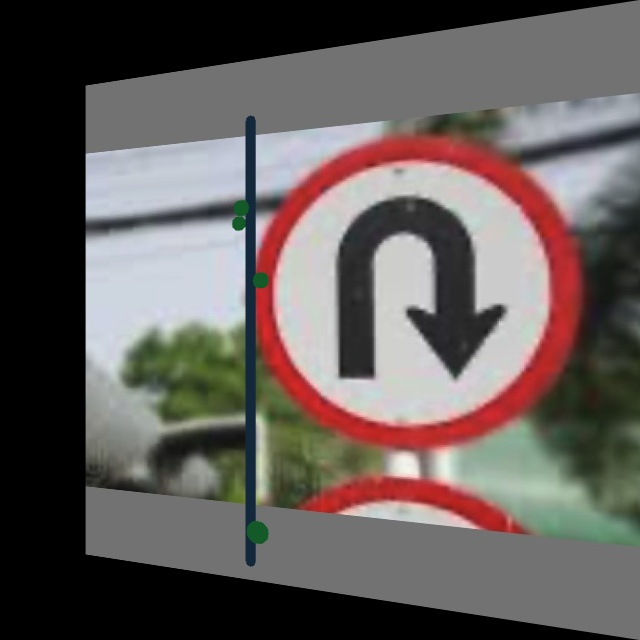U_Turn_Ahead: (255, 131, 579, 442)
